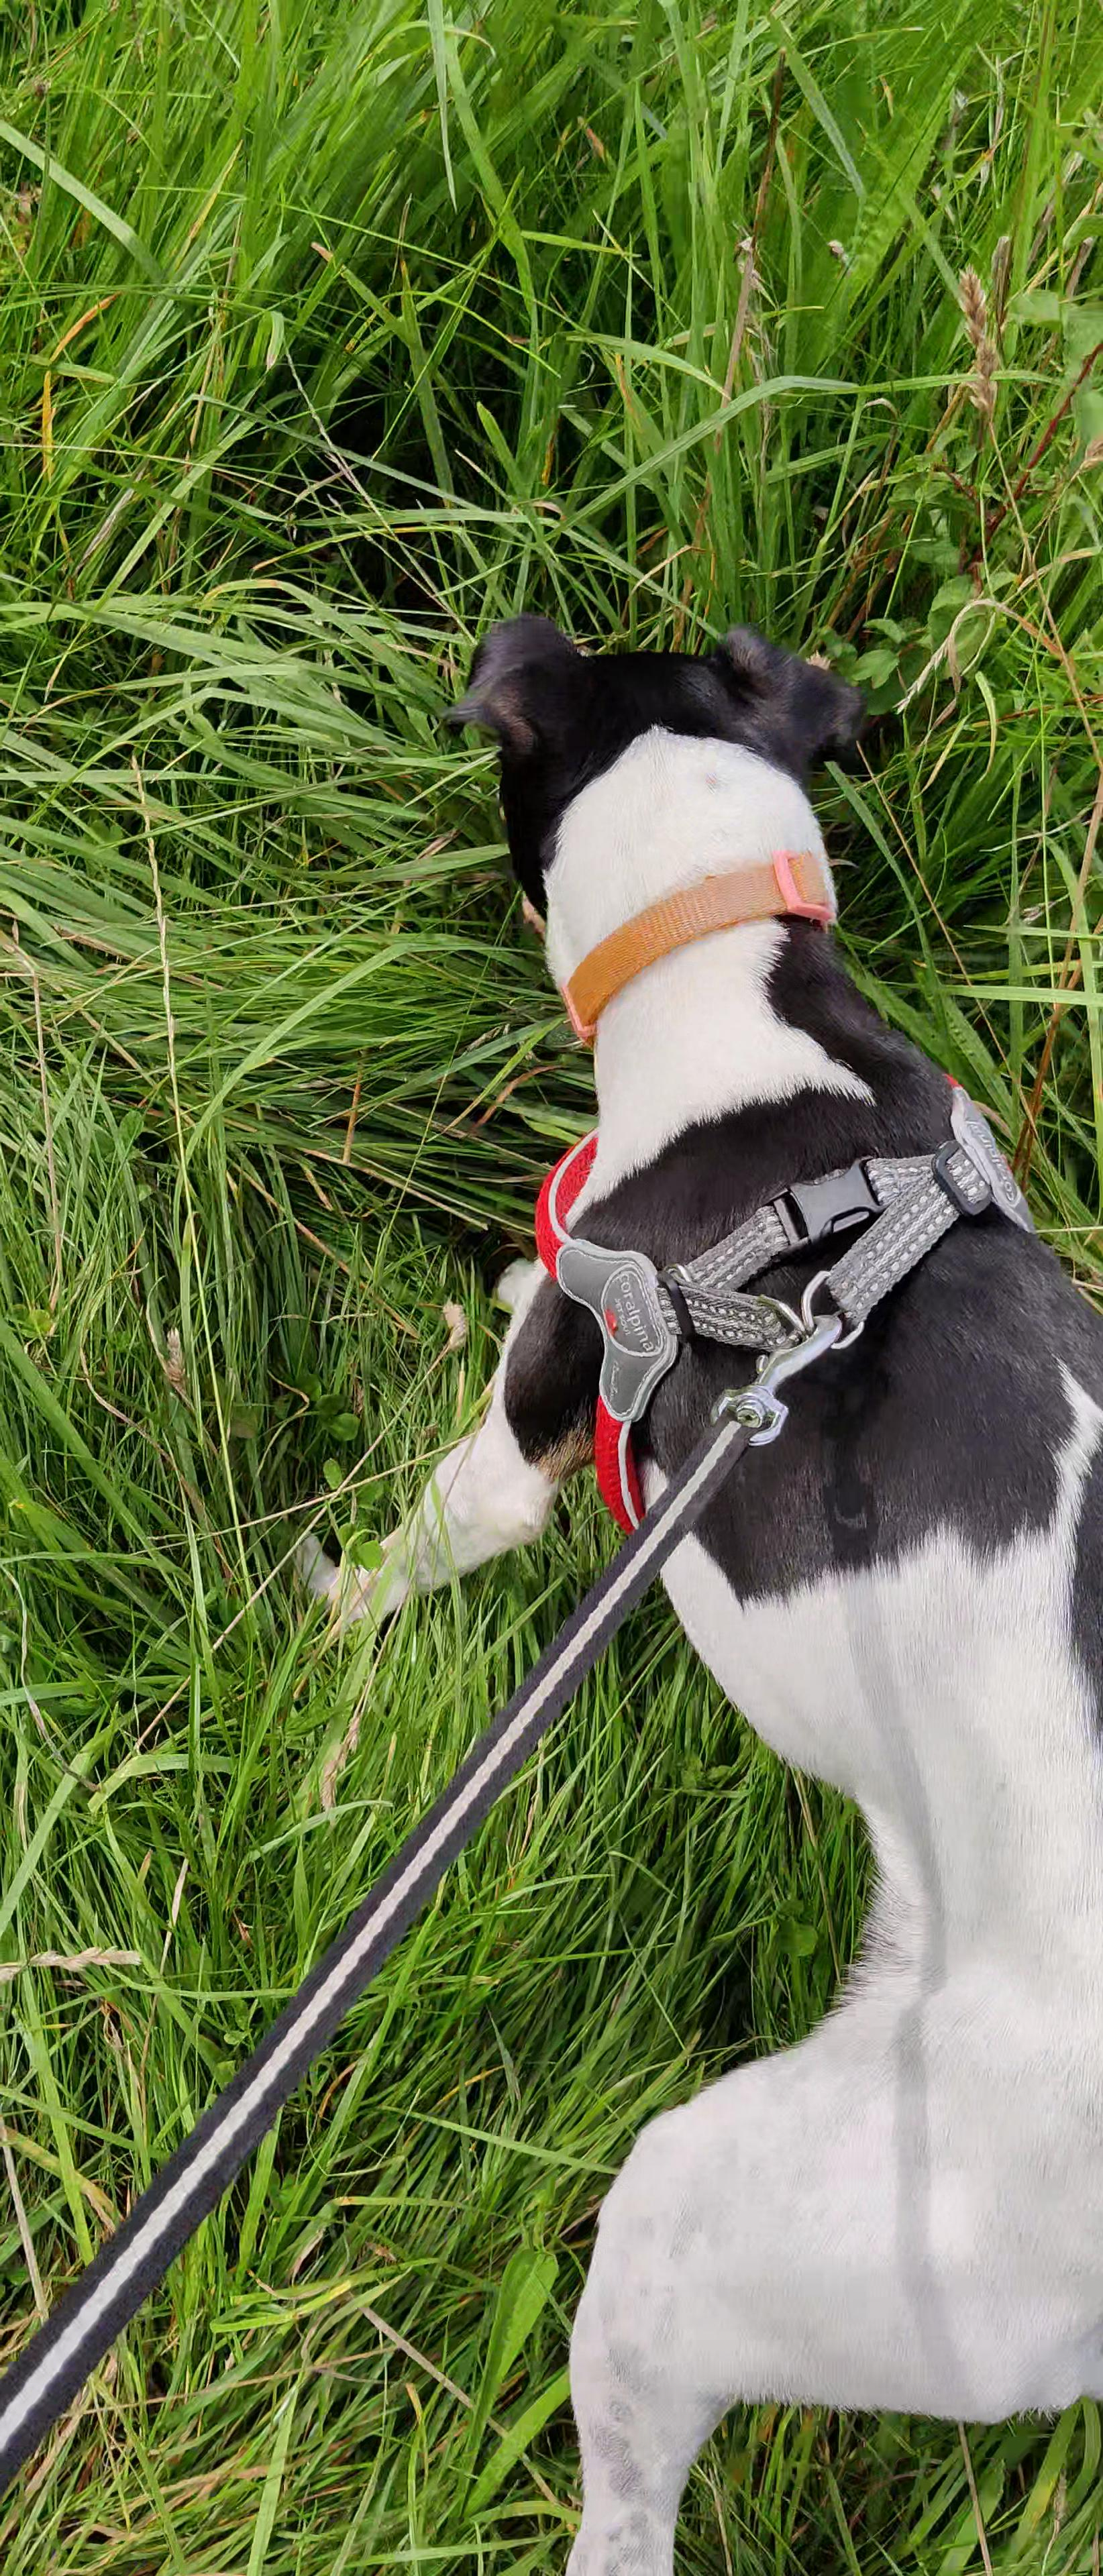Dog: (212, 531, 1103, 2576)
